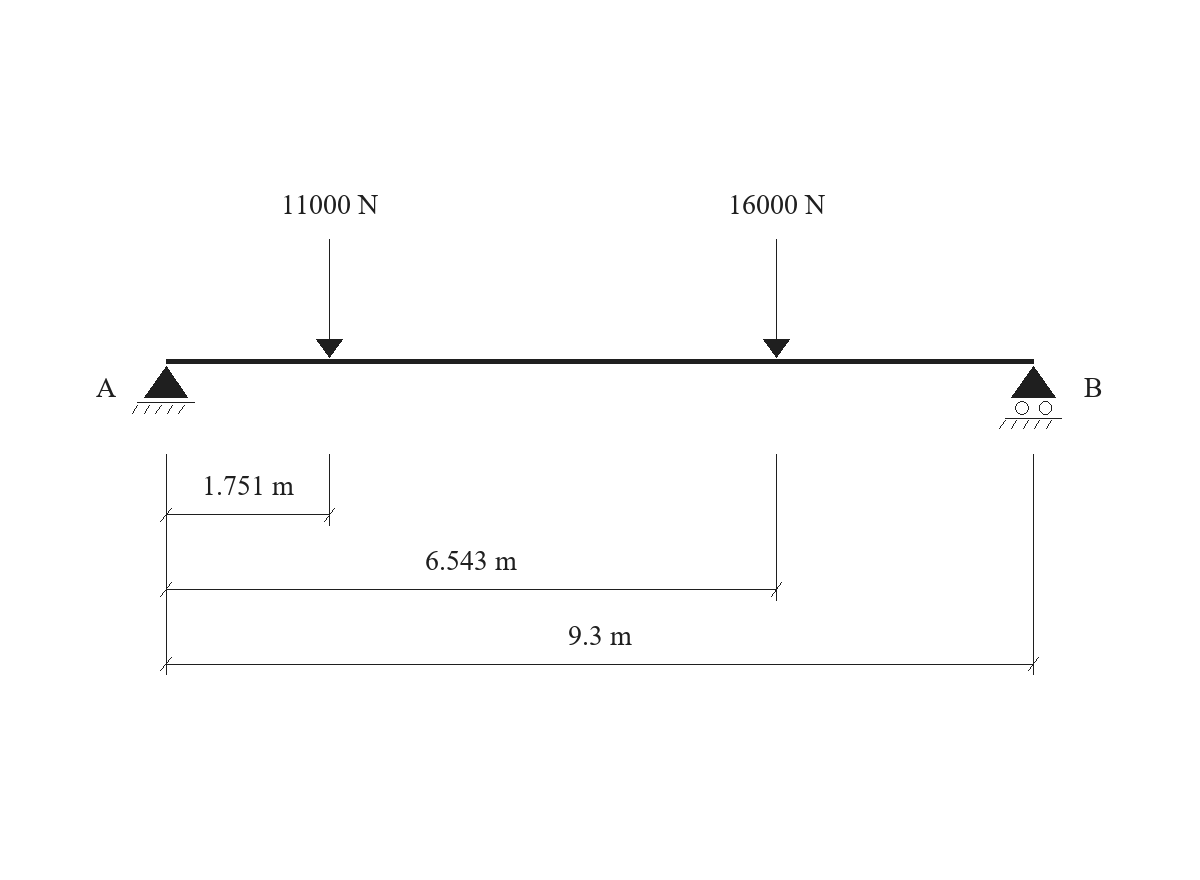pin_support: (132, 366, 195, 414)
point_load: (316, 239, 343, 358), (763, 239, 790, 358)
roller_support: (999, 366, 1062, 429)
